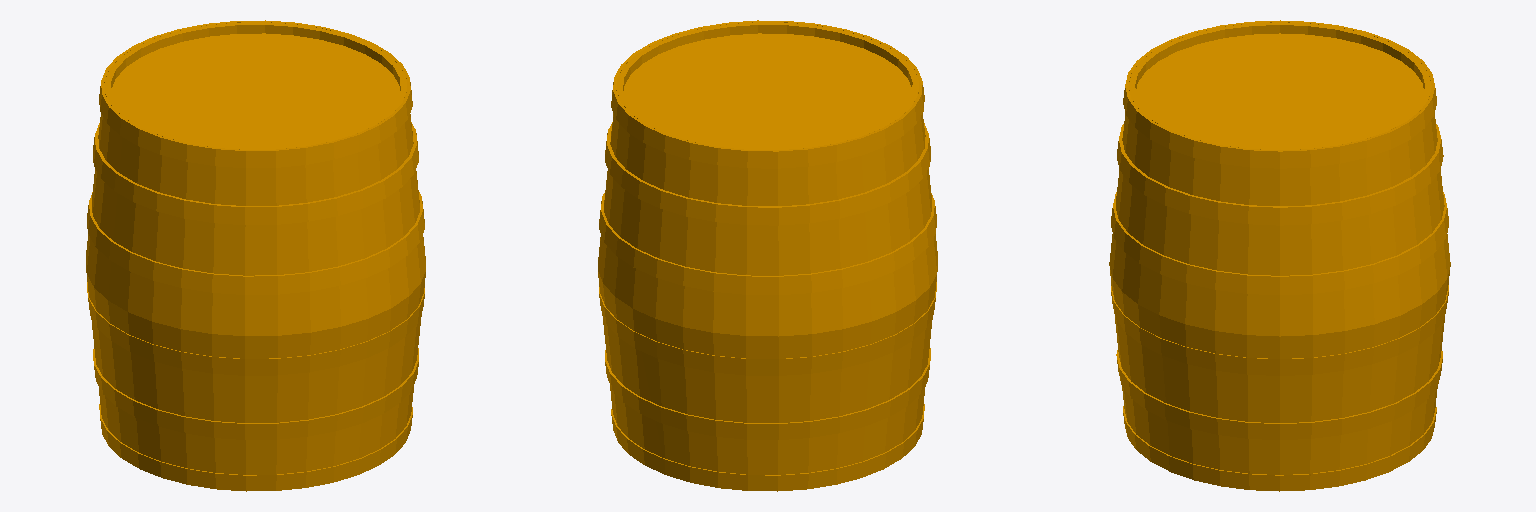
The robot description file, URDF, robot "none":
<robot name="none">
       <link name="none">
           <visual>
               <origin rpy="1.57 0 0" xyz="0 0 0" />
               <geometry>
                   <mesh filename="barrel.obj" />
               </geometry>
           </visual>
          <collision>
              <geometry>
                  <box size="0.908703 1.000000 0.908704" />
              </geometry>
          </collision>

          <inertial>
            <mass value="0.0" />
            <inertia ixx="0.0" ixy="0.0" ixz="0.0" iyy="0.0" iyz="0.0" izz="0.0" />
          </inertial>
      </link>
  </robot>

--- Render facts (derived) ---
3 views of the same robot in one strip: view 1: azimuth 30°, elevation 25°; view 2: azimuth 150°, elevation 25°; view 3: azimuth 270°, elevation 25° (orthographic).
Model none with 1 links and 0 joints (none), rooted at none, posed every joint at zero.
Links seen in each view (by area): view 1: none; view 2: none; view 3: none.
Link boxes in pixels (box(x1,y1,x2,y2)): none: box(86, 20, 425, 491); none: box(598, 20, 937, 491); none: box(1109, 20, 1450, 491).
Size in the robot's own frame: 0.9087 by 0.9087 by 1 metres.
1 mesh visuals loaded from 1 distinct referenced files (1 OBJ).